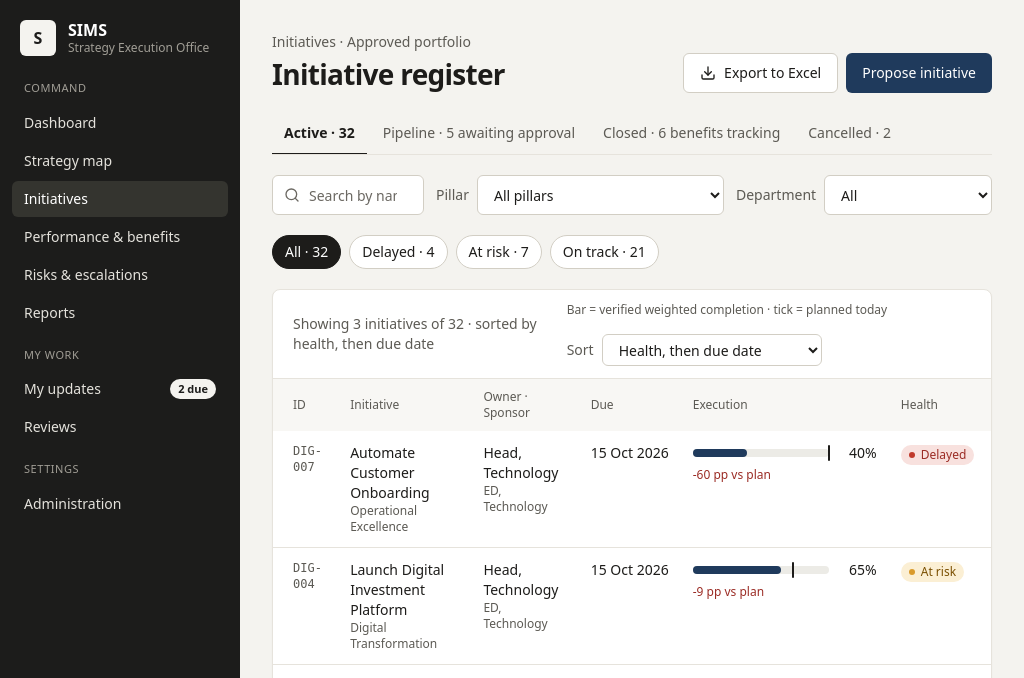
Initiative register › keeps a space typed just before a pause
In the search field named "Search initiatives": (348, 195) x1=272 y1=175 x2=424 y2=215, type "core "
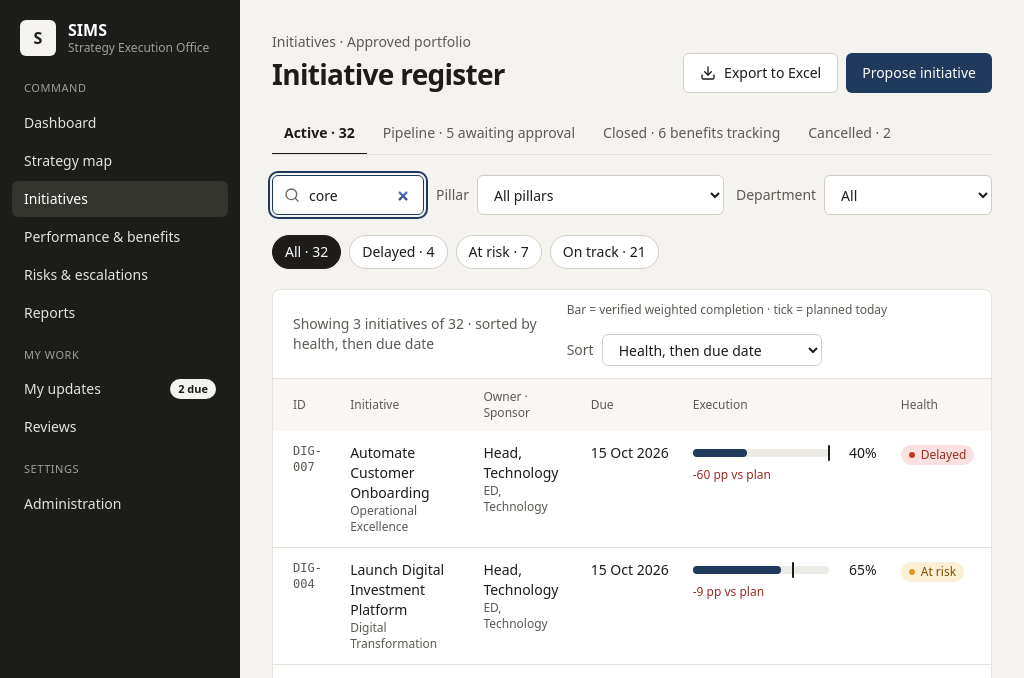
// The URL catches up with "core" while the person is still typing.
In the search field named "Search initiatives": (348, 195) x1=272 y1=175 x2=424 y2=215, type "banking"
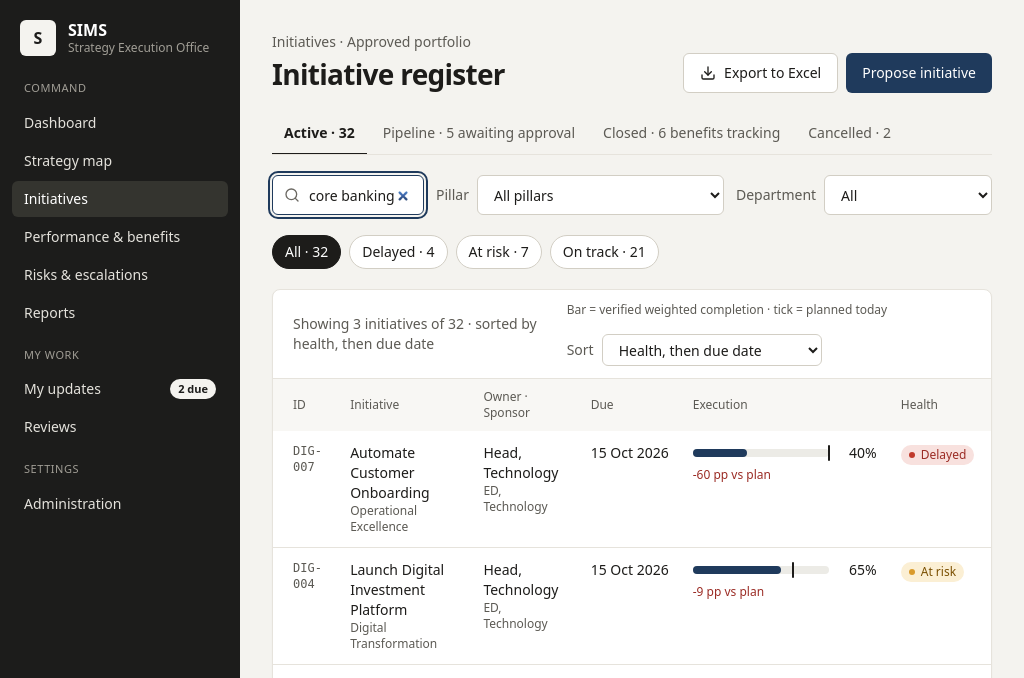
Result: the search field named "Search initiatives" holds "core banking" at x1=272 y1=175 x2=424 y2=215
